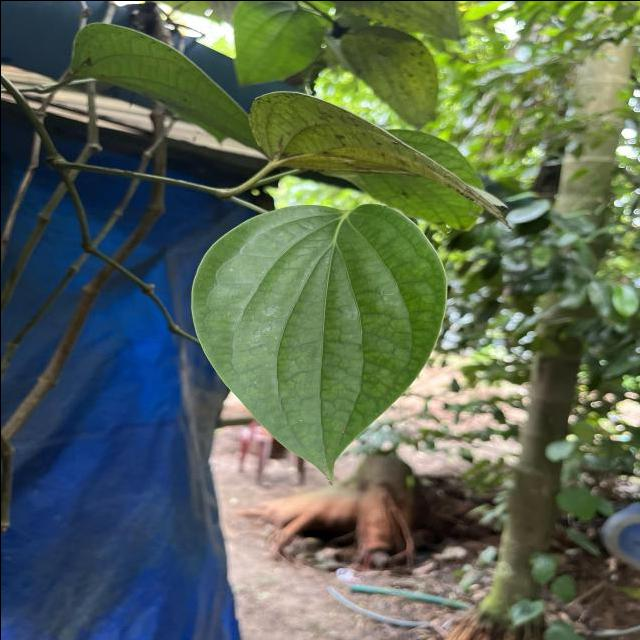Piper nigrum: (187, 200, 448, 487)
